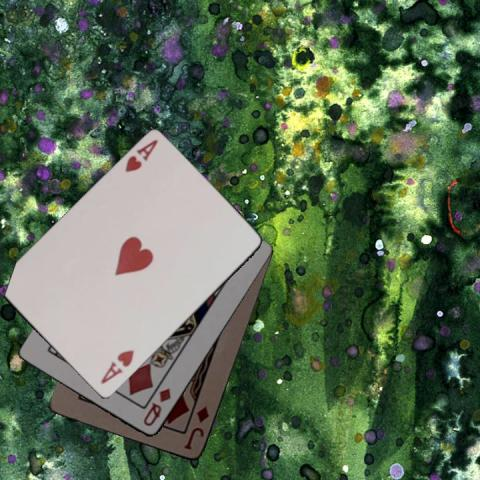Ah: (97, 347, 136, 386), (122, 137, 159, 174)
Jd: (180, 404, 210, 452)
Qd: (140, 385, 173, 429)
